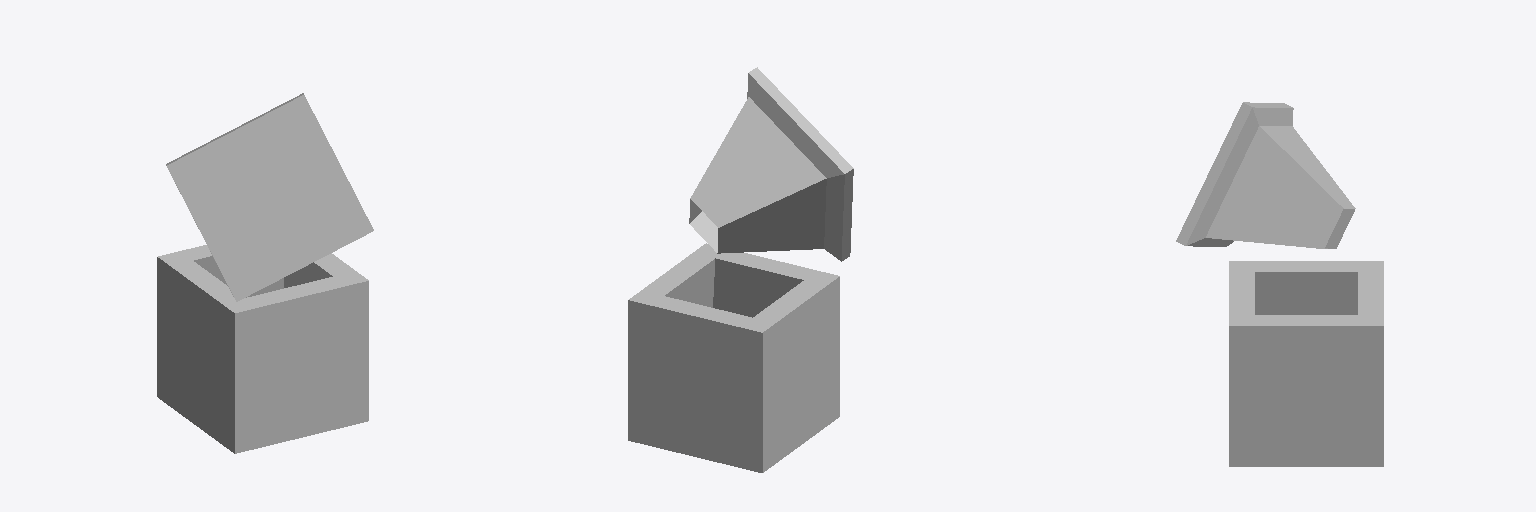
Rendered from AnimatedBox_000027.obj.
The picture shows the model from 3 angles: view 1: azimuth 30°, elevation 25°; view 2: azimuth 150°, elevation 25°; view 3: azimuth 270°, elevation 25°; orthographic projection.
Visible parts, largest first — view 1: Cube, Cube.001; view 2: Cube, Cube.001; view 3: Cube, Cube.001.
Boxes of the visible parts, <box> form: Cube: <box>157,245,368,453</box>; Cube.001: <box>166,93,373,301</box>; Cube: <box>628,243,839,472</box>; Cube.001: <box>689,67,853,261</box>; Cube: <box>1229,261,1383,466</box>; Cube.001: <box>1176,102,1355,248</box>.
Bounding box in the file's own units: 2.61 × 4.78 × 2.68.